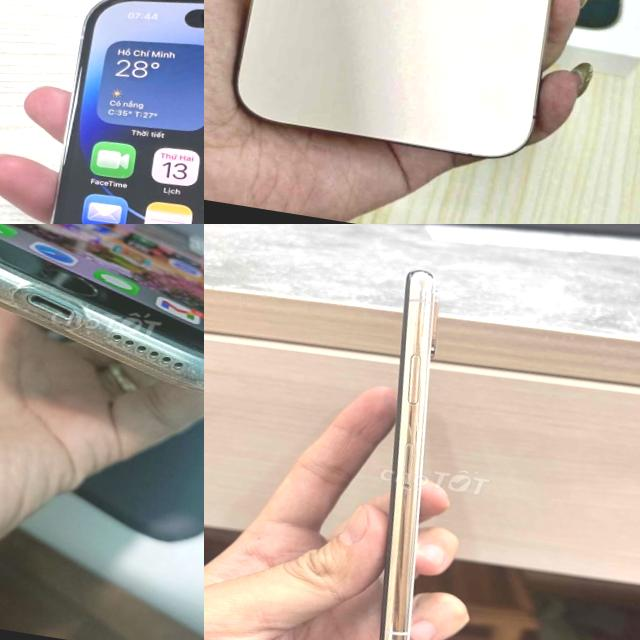gen_14: (0, 0, 204, 224)
gen_16: (216, 0, 623, 175)
gen_6: (0, 224, 204, 413)
gen_x_xs: (379, 270, 438, 640)
